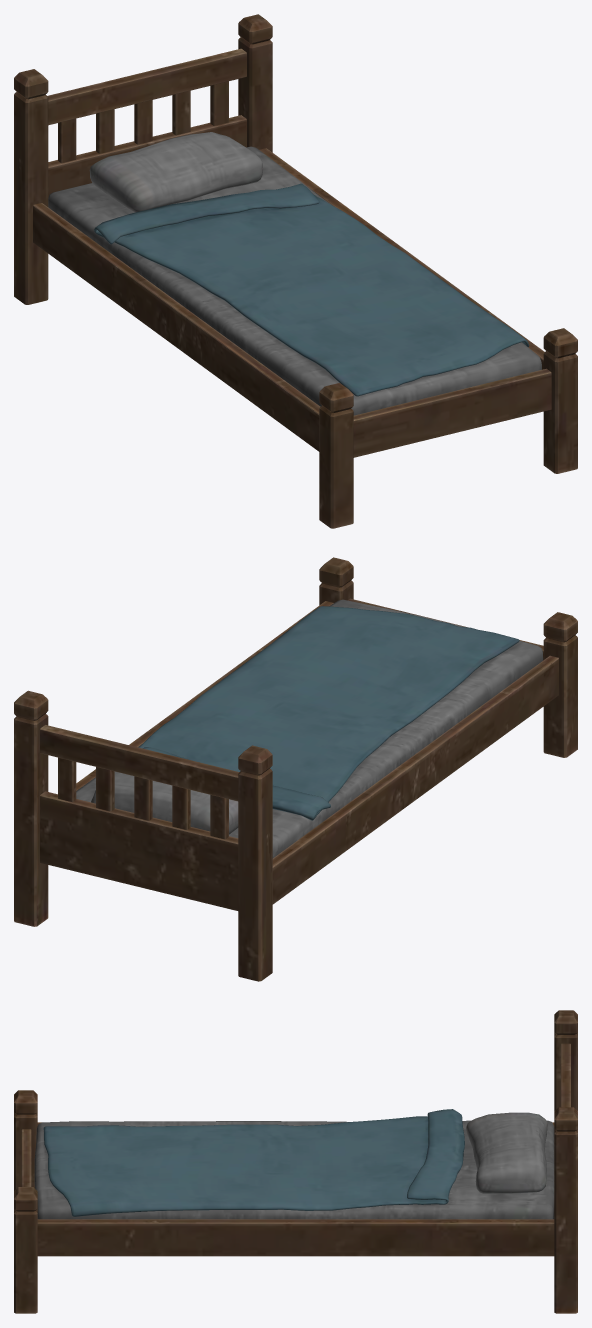
File: bedC.glb
3 views of the same model, one above another, from view 1: azimuth 30°, elevation 25°; view 2: azimuth 150°, elevation 25°; view 3: azimuth 270°, elevation 25° (orthographic). The views are drawn at different scales.
Visible parts, largest first — view 1: Bed_DefaultMaterial_0; view 2: Bed_DefaultMaterial_0; view 3: Bed_DefaultMaterial_0.
Boxes of the visible parts, left/top/right/bottom form: Bed_DefaultMaterial_0: left=14, top=14, right=577, bottom=528; Bed_DefaultMaterial_0: left=14, top=557, right=577, bottom=981; Bed_DefaultMaterial_0: left=14, top=1010, right=577, bottom=1313.
Bounding box in the file's own units: 0.7864 × 0.6819 × 1.76.
Materials: 1 (1 with a texture image).
